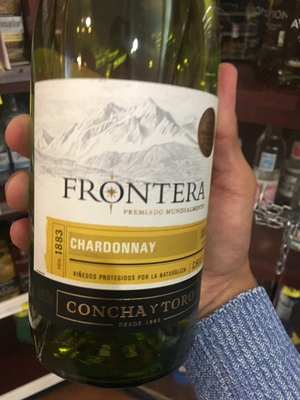frontera chardonnay: (29, 5, 216, 381)
